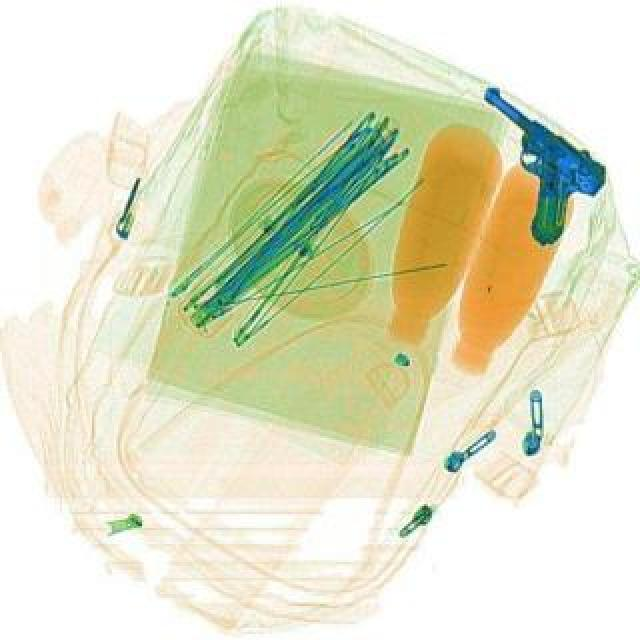gun: (422, 80, 614, 246)
